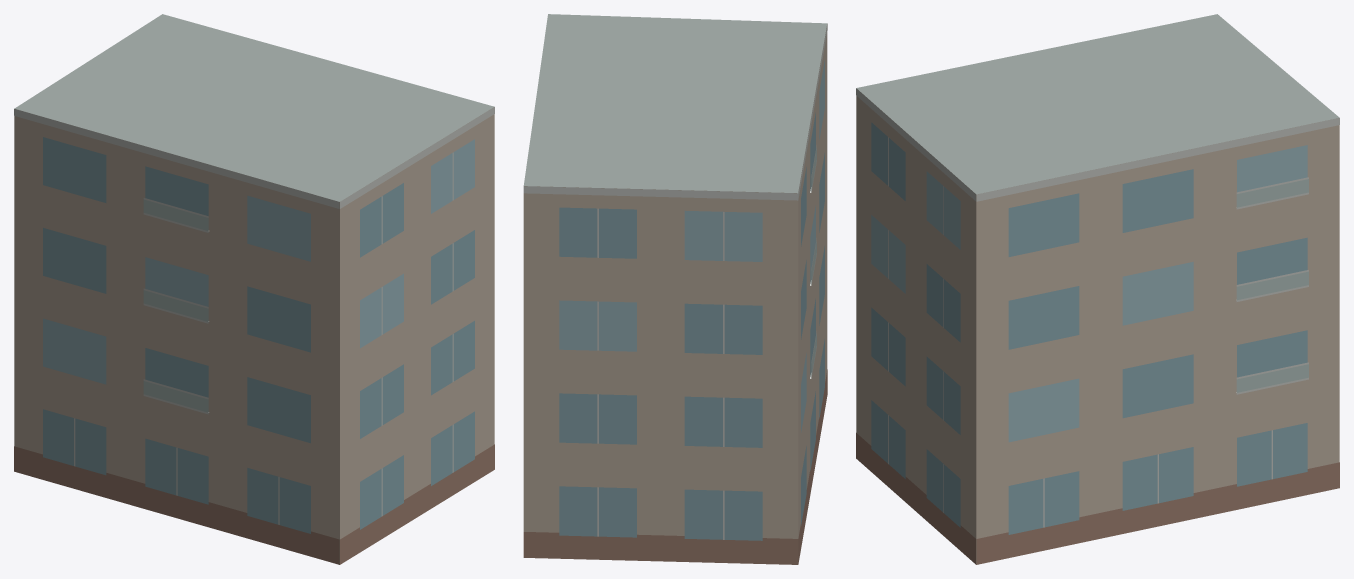
File: survey-upis-32965271.glb
The picture shows the model from 3 angles, left to right: view 1: azimuth 30°, elevation 25°; view 2: azimuth 150°, elevation 25°; view 3: azimuth 270°, elevation 25°; orthographic projection. The views are drawn at different scales.
Parts seen in each view (by area): view 1: survey-upis-32965271.tmp; view 2: survey-upis-32965271.tmp; view 3: survey-upis-32965271.tmp.
Boxes of the visible parts, x1,y1,x2,y2 form: survey-upis-32965271.tmp: (14,14,494,564); survey-upis-32965271.tmp: (523,14,827,564); survey-upis-32965271.tmp: (856,14,1339,564).
Size of the model in its own units: 12.86 by 12.3 by 14.56.
